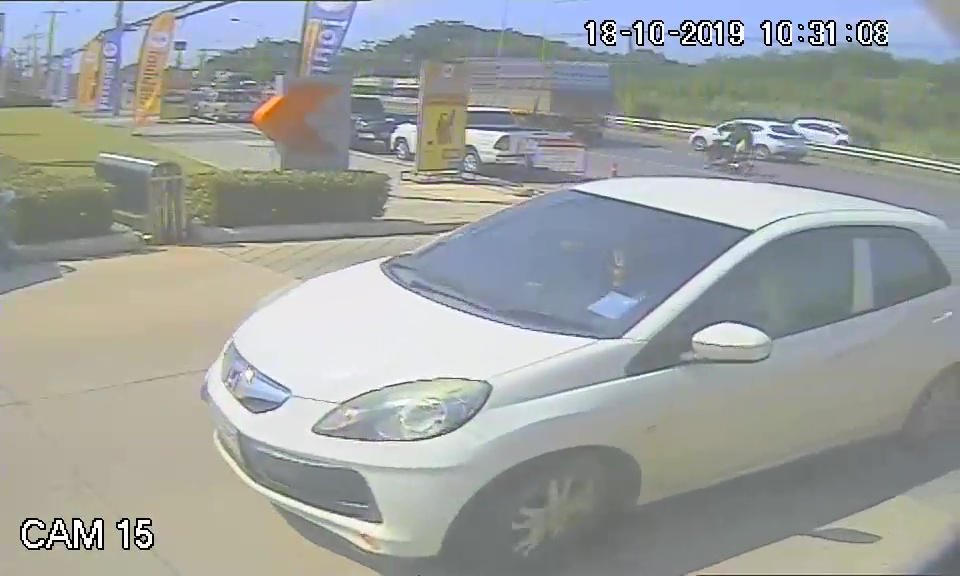sedan: (199, 172, 959, 562)
